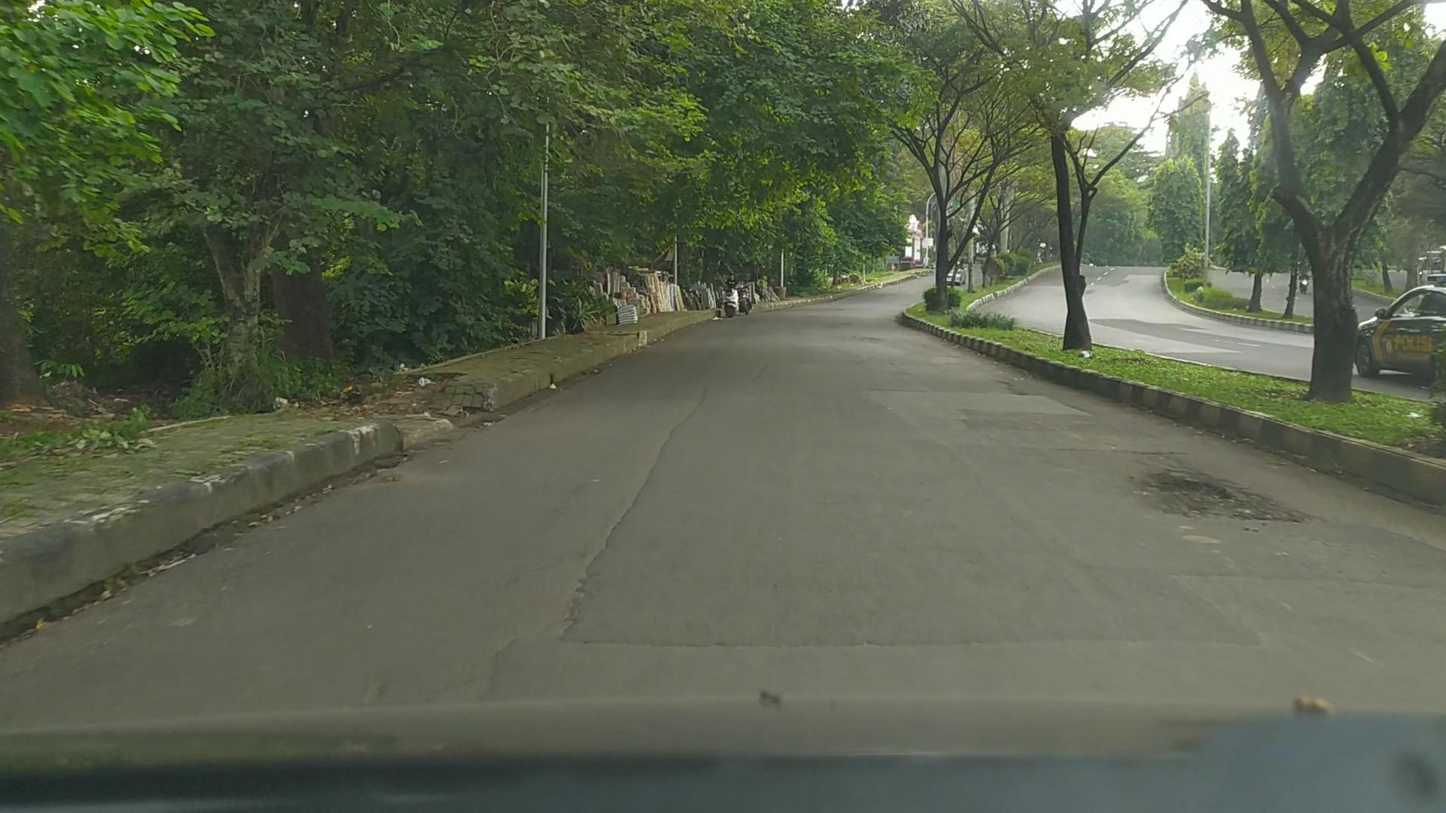pothole: (1133, 462, 1320, 527)
